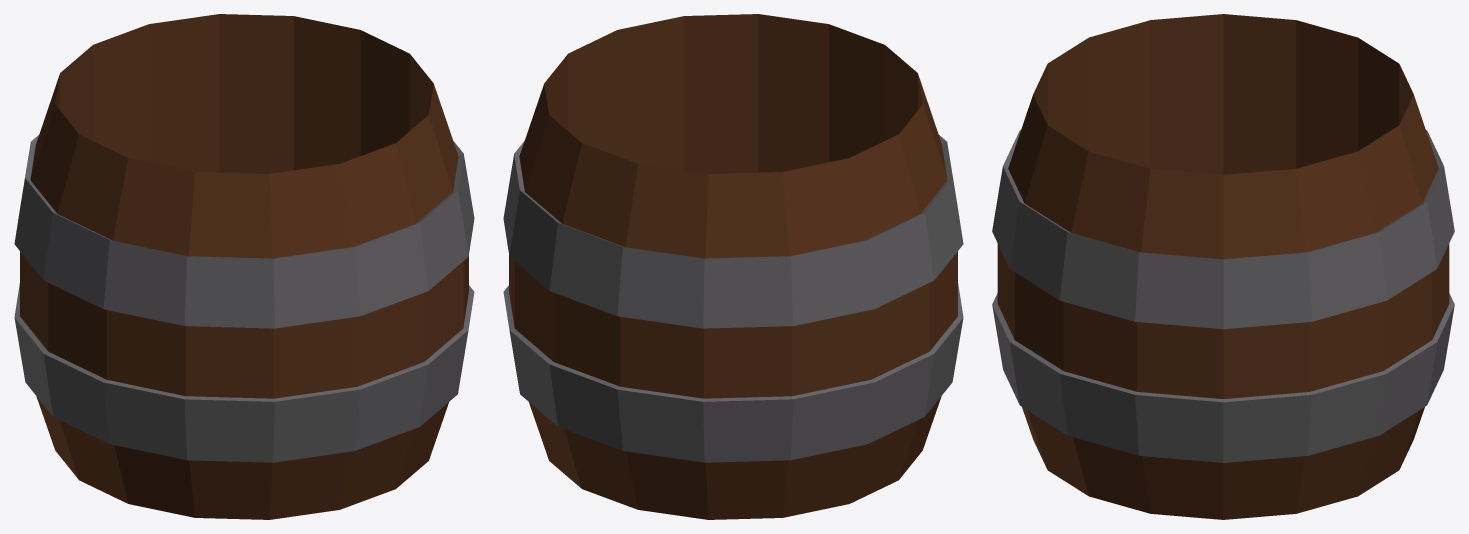
File: Barrelblend.fbx
3 renders of one model, left to right at view 1: azimuth 30°, elevation 25°; view 2: azimuth 150°, elevation 25°; view 3: azimuth 270°, elevation 25°, orthographic.
Visible parts, largest first — view 1: Cylinder; view 2: Cylinder; view 3: Cylinder.
Boxes of the visible parts, x1=… form: Cylinder: x1=14, y1=14, x2=474, y2=519; Cylinder: x1=503, y1=14, x2=963, y2=519; Cylinder: x1=992, y1=14, x2=1454, y2=519.
Size of the model in its own units: 243 by 200 by 243.
